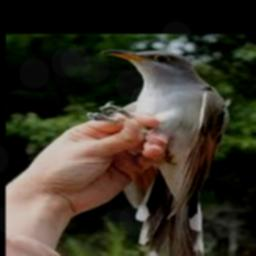Cuckoo: (91, 50, 230, 256)
